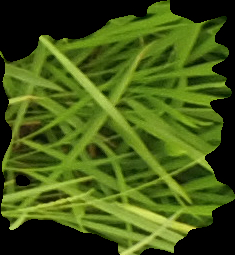grass: (1, 1, 233, 253)
